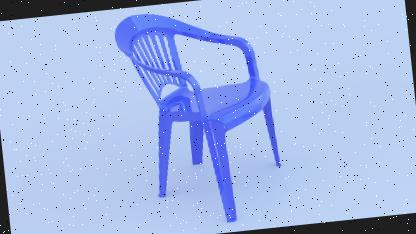chair: (110, 0, 291, 215)
